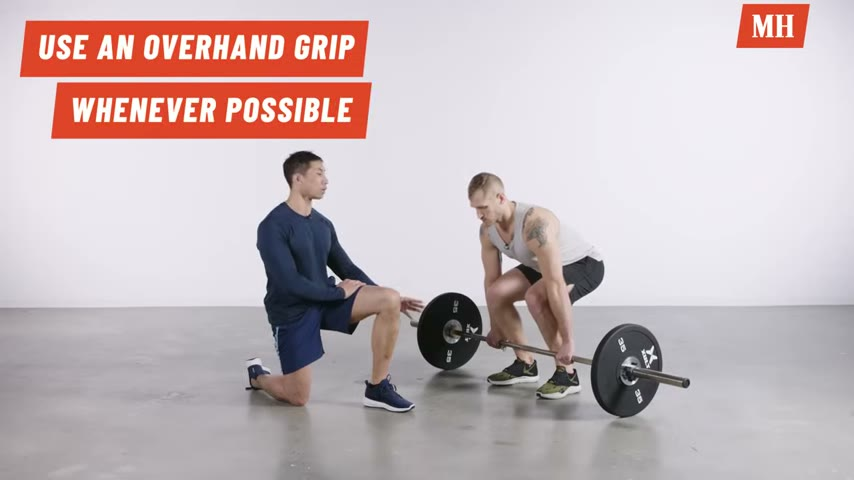barbell_plate_side: (411, 289, 483, 425), (605, 317, 692, 429)
